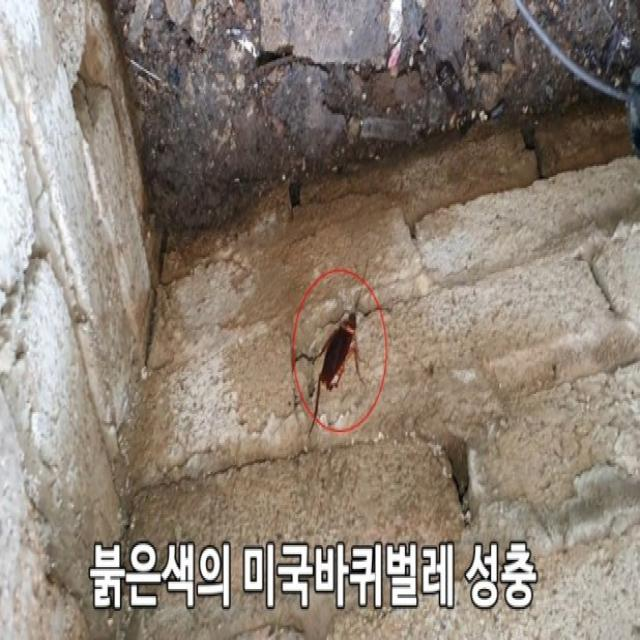Cockroach: (289, 287, 385, 465)
